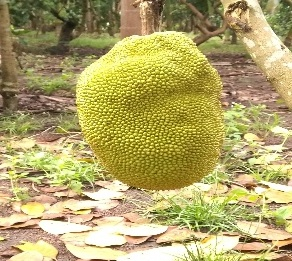Mit: (72, 31, 219, 187)
